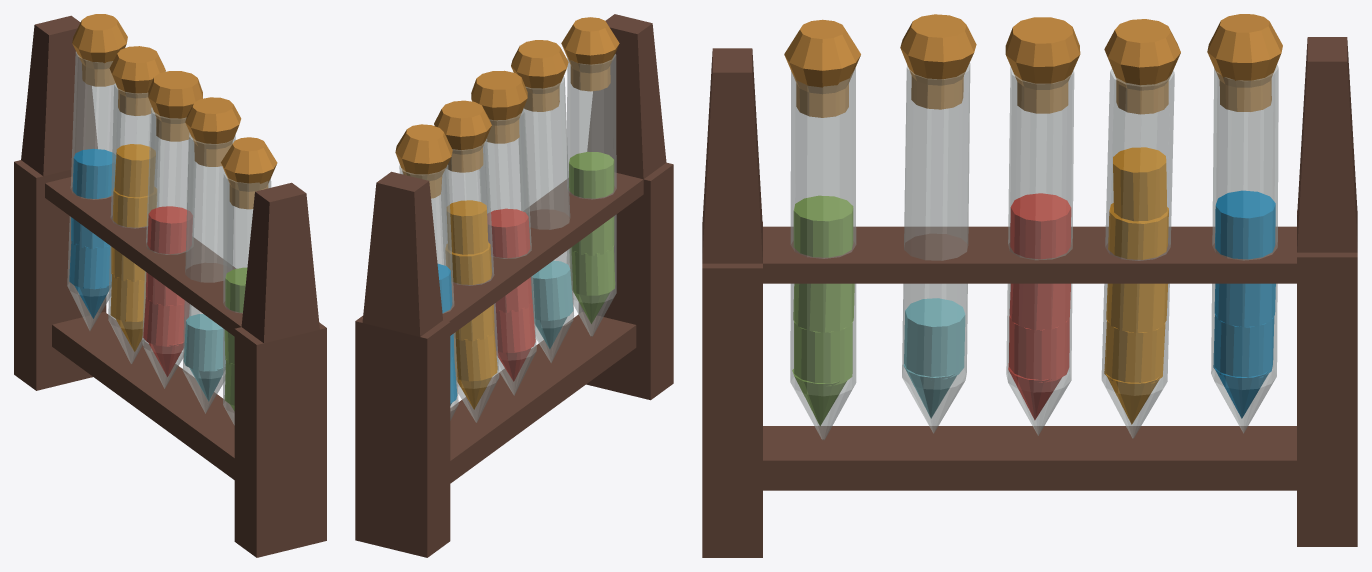
The model's file is Lab Equipment.fbx.
3 views of the same model, side by side, from view 1: azimuth 30°, elevation 25°; view 2: azimuth 150°, elevation 25°; view 3: azimuth 270°, elevation 25° (orthographic). The views are drawn at different scales.
Parts seen in each view (by area): view 1: model3:Mesh; view 2: model3:Mesh; view 3: model3:Mesh.
Boxes of the visible parts, <box> form: model3:Mesh: <box>14,14,326,557</box>; model3:Mesh: <box>355,14,673,557</box>; model3:Mesh: <box>702,14,1357,557</box>.
Bounding box in the file's own units: 0.205 × 1.04 × 1.19.
